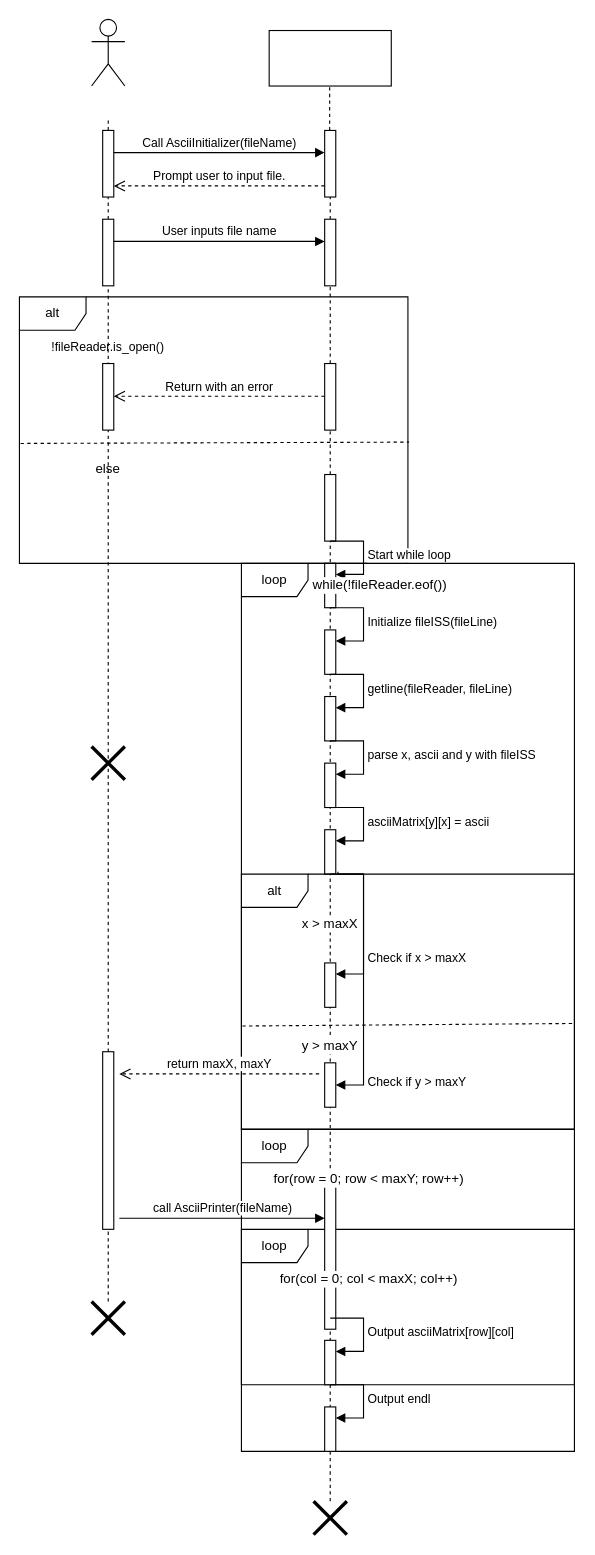
The diagram is 595 pixels wide and 1555 high, and some of its shapes have lost their labels. Each missing label, with the centre of its shape:
"Actor" goes at [107,52].
"Device" goes at [329,57].
